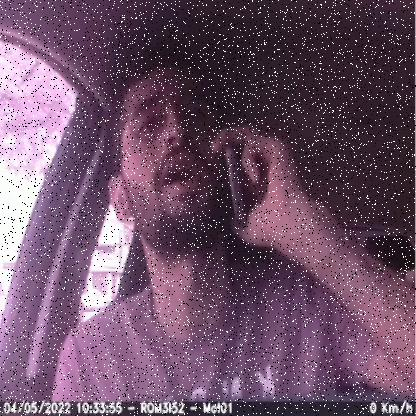phone: (216, 121, 260, 238)
